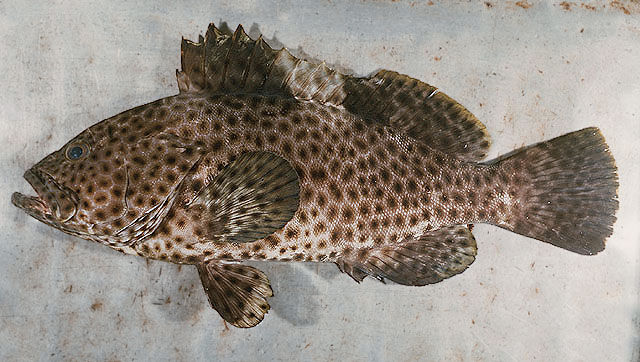fish: (11, 18, 620, 329)
